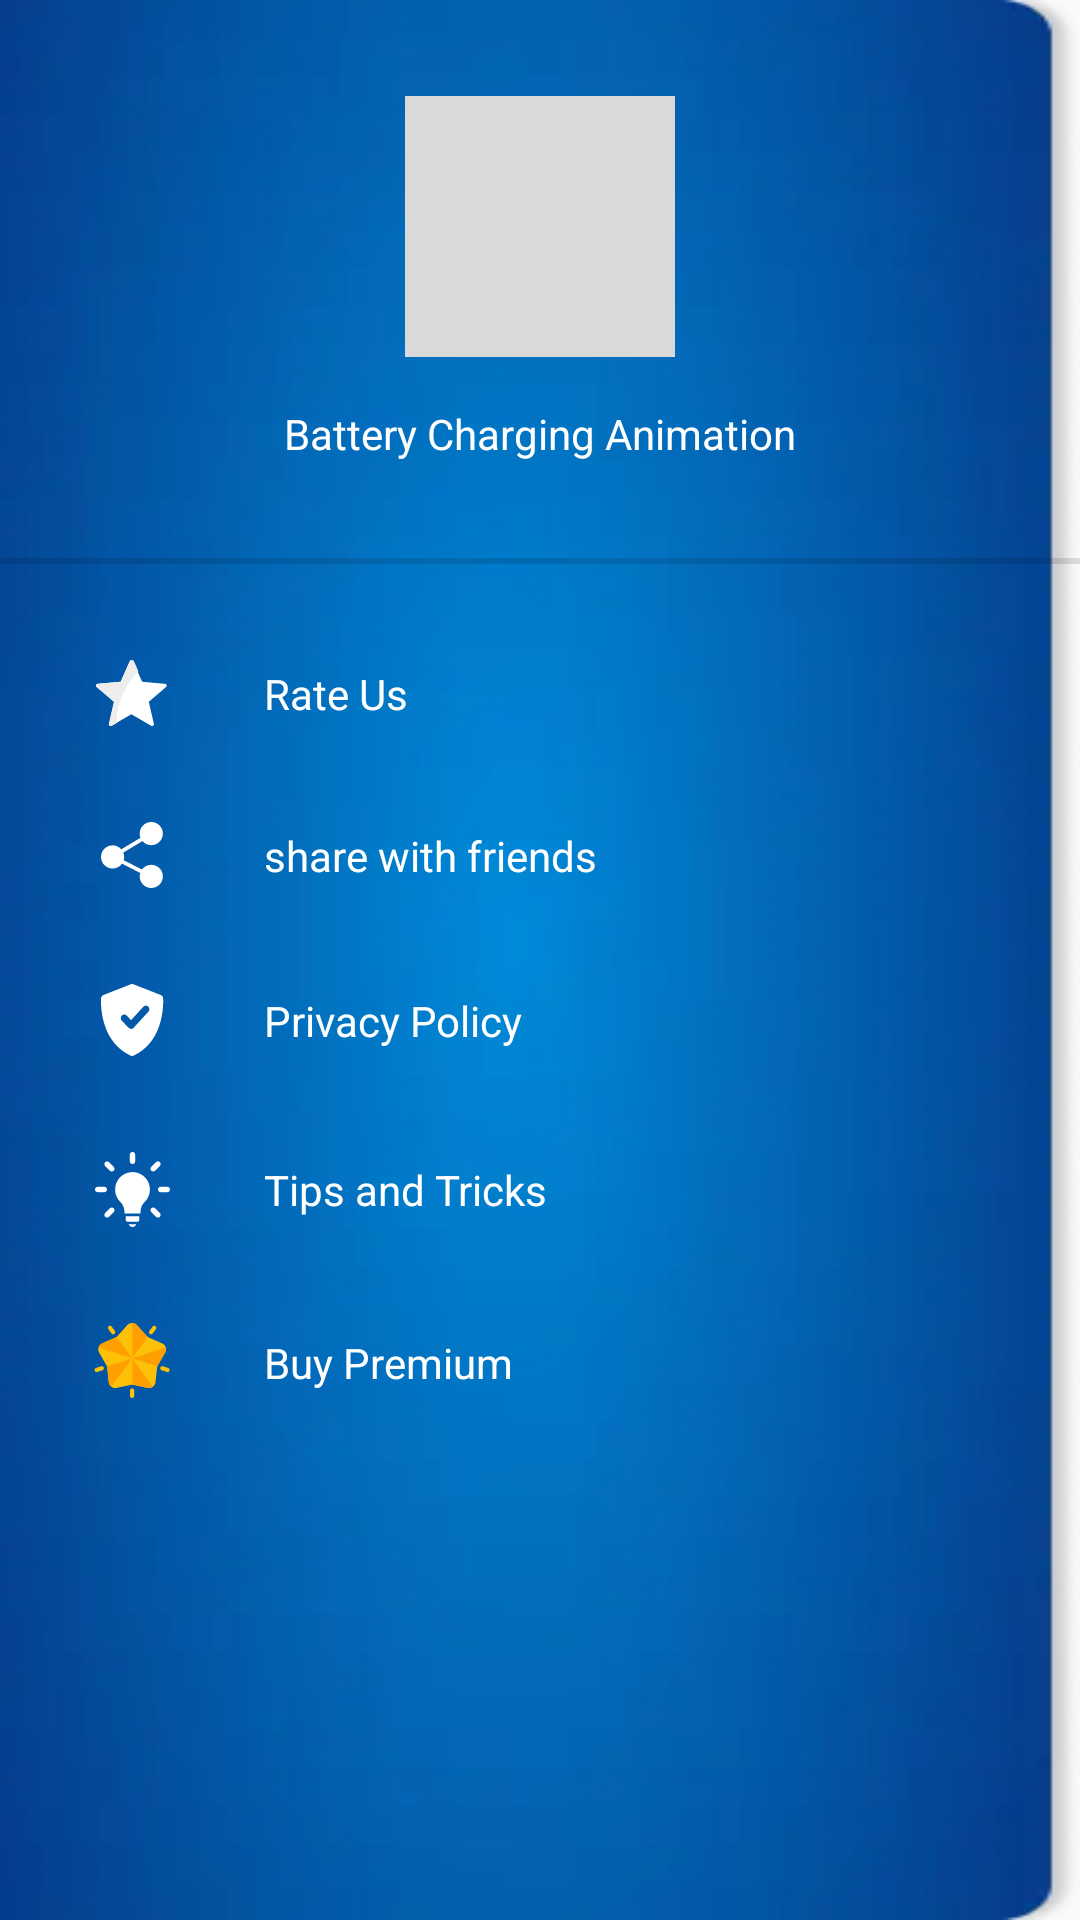

Where icons sit on this 1080×1920 app screen, as (x1, y1, x2, y2):
bulbicon: (95, 1152, 170, 1227)
sharewhite: (101, 822, 163, 888)
shiningstaricon: (94, 1323, 170, 1398)
staricon: (96, 660, 167, 726)
tick: (101, 984, 164, 1056)
